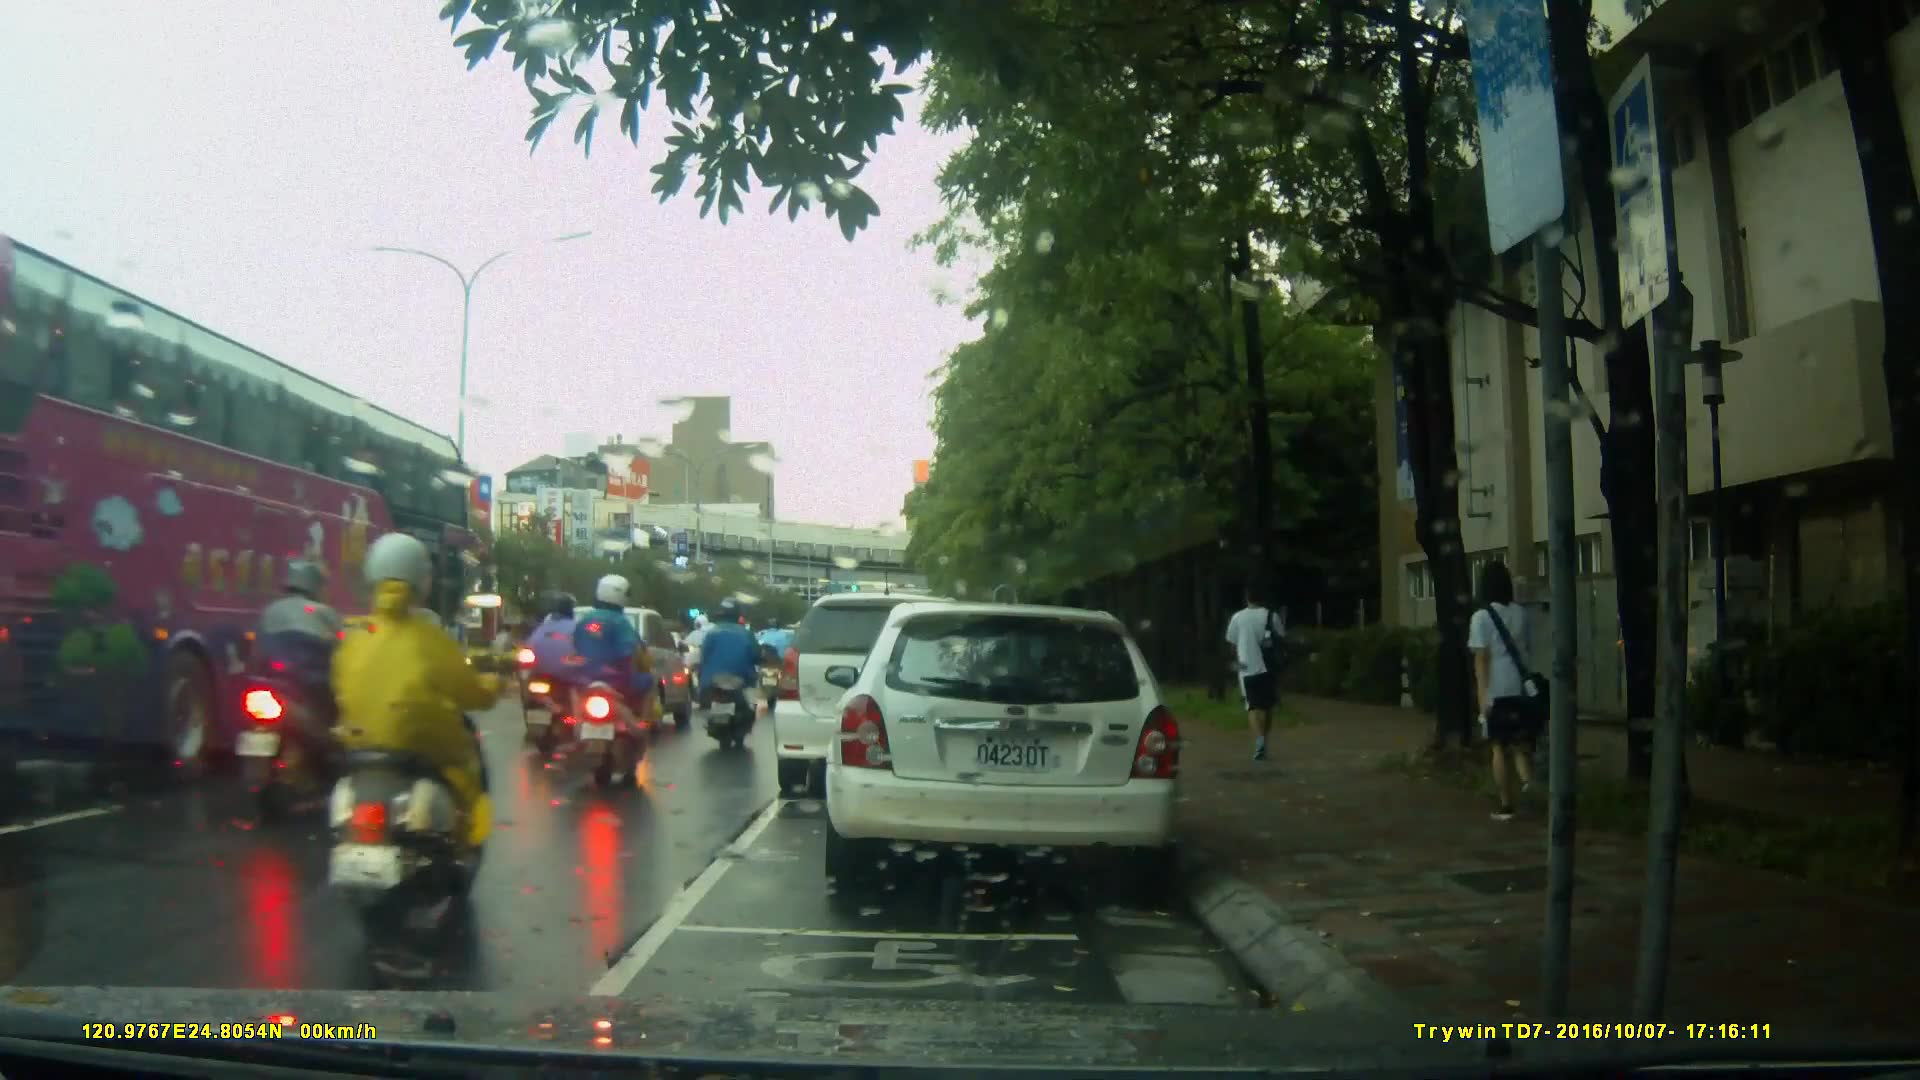pedestrian: (1454, 563, 1551, 836), (1211, 575, 1288, 767)
rider: (331, 523, 501, 948), (232, 554, 367, 827), (559, 571, 656, 805), (529, 592, 605, 764), (696, 599, 760, 757), (716, 612, 766, 715), (755, 614, 791, 692)
vehicle: (1, 262, 503, 781), (835, 594, 1194, 898), (776, 590, 1026, 784), (521, 604, 701, 745)
